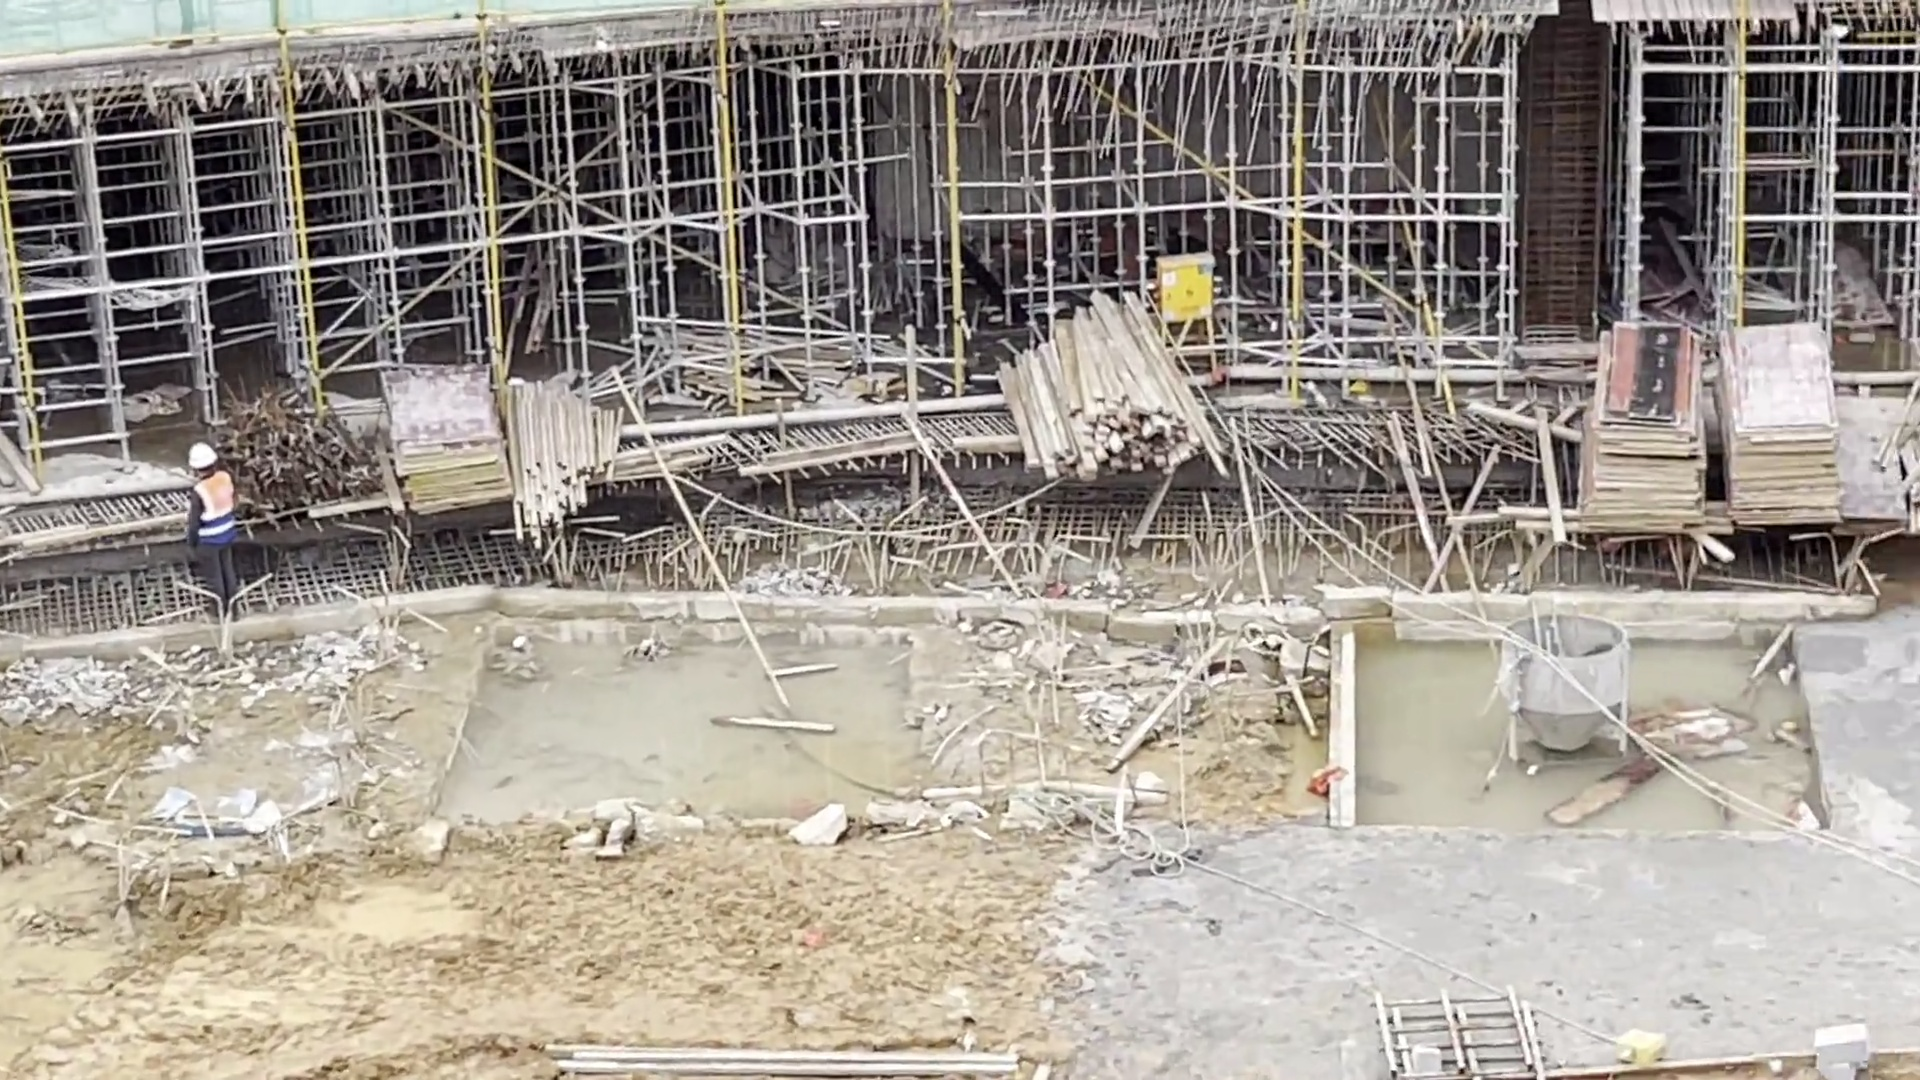board: (1577, 315, 1849, 531), (370, 359, 519, 513)
ebox: (1154, 249, 1219, 332)
helmet: (183, 441, 223, 465)
person: (183, 435, 245, 618)
scaffold: (509, 371, 619, 542)
vest: (188, 477, 237, 553)
wood: (1004, 297, 1231, 477)
